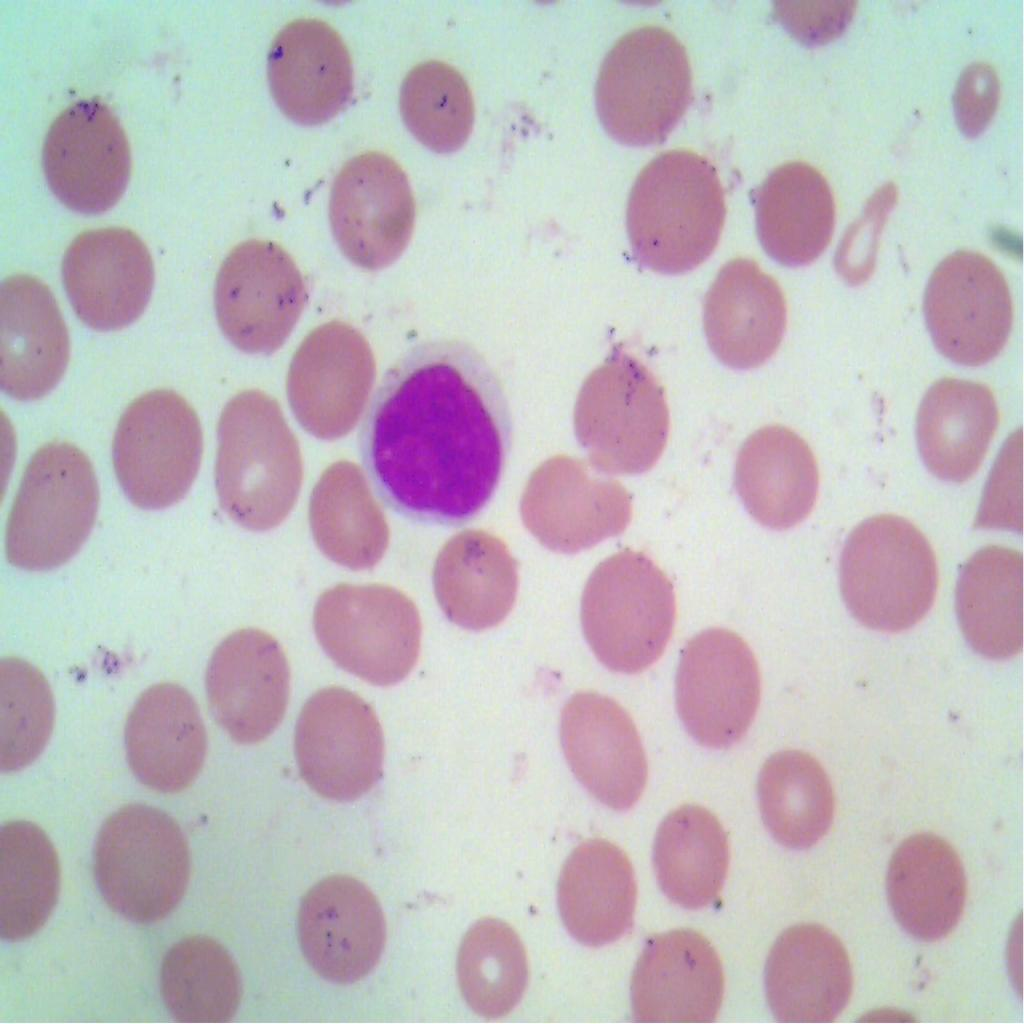Eritrosit: (203, 225, 318, 364), (831, 497, 938, 644), (0, 442, 121, 570), (42, 214, 166, 337), (298, 571, 423, 690), (282, 684, 396, 814), (913, 230, 1019, 368), (108, 379, 206, 527), (624, 147, 738, 271), (584, 15, 698, 138), (214, 382, 306, 534), (666, 614, 760, 760), (542, 832, 650, 957), (556, 692, 661, 820), (34, 92, 139, 218), (198, 608, 296, 743), (718, 412, 826, 534), (282, 868, 392, 985), (521, 442, 635, 554), (579, 545, 678, 672), (879, 824, 981, 947), (324, 142, 418, 275), (94, 802, 198, 919), (906, 364, 1004, 487), (573, 354, 670, 478), (259, 14, 364, 127), (742, 152, 838, 274), (702, 248, 794, 372), (622, 918, 730, 1023), (430, 530, 526, 648), (289, 458, 391, 568), (646, 802, 746, 914), (123, 666, 203, 805), (758, 909, 855, 1023), (286, 310, 378, 429), (0, 268, 79, 405), (944, 535, 1023, 669), (748, 749, 841, 861), (396, 50, 479, 175), (448, 908, 530, 1018), (831, 180, 908, 292), (164, 928, 243, 1023), (946, 58, 1008, 154)
Monosit: (359, 328, 522, 532)
